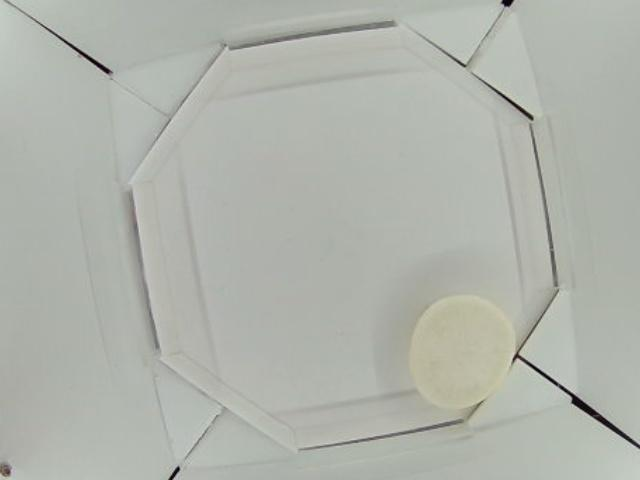Mooli: (409, 294, 517, 412)
